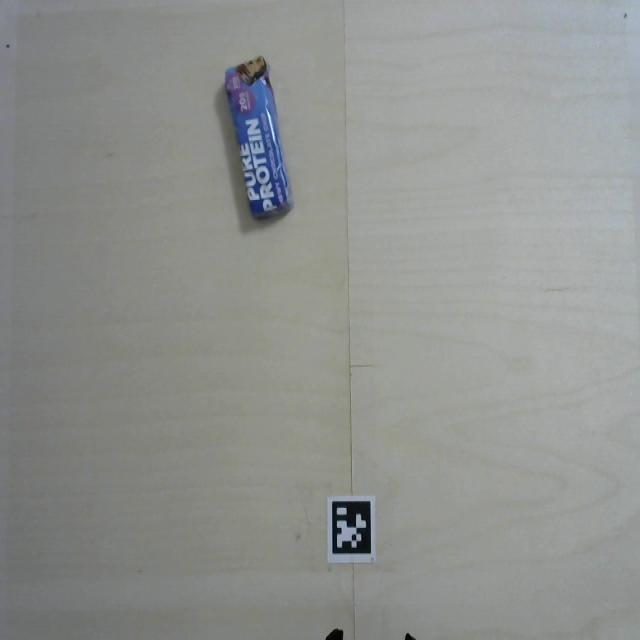proteinbar: (222, 53, 298, 231)
